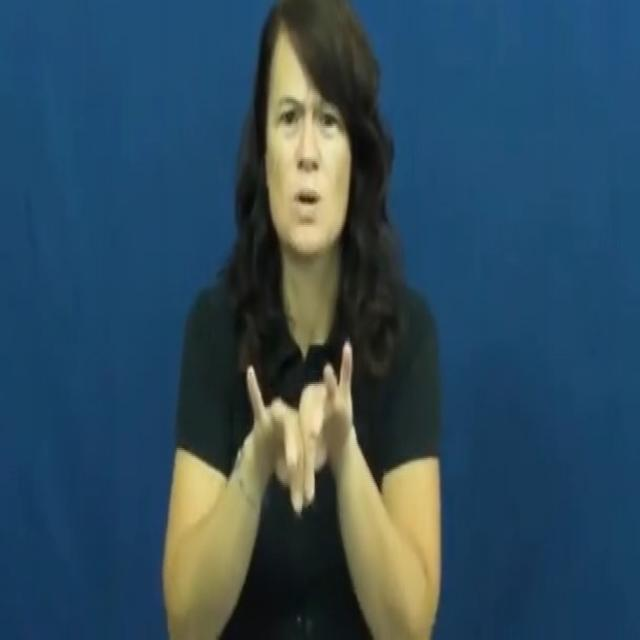urgent: (224, 326, 368, 520)
